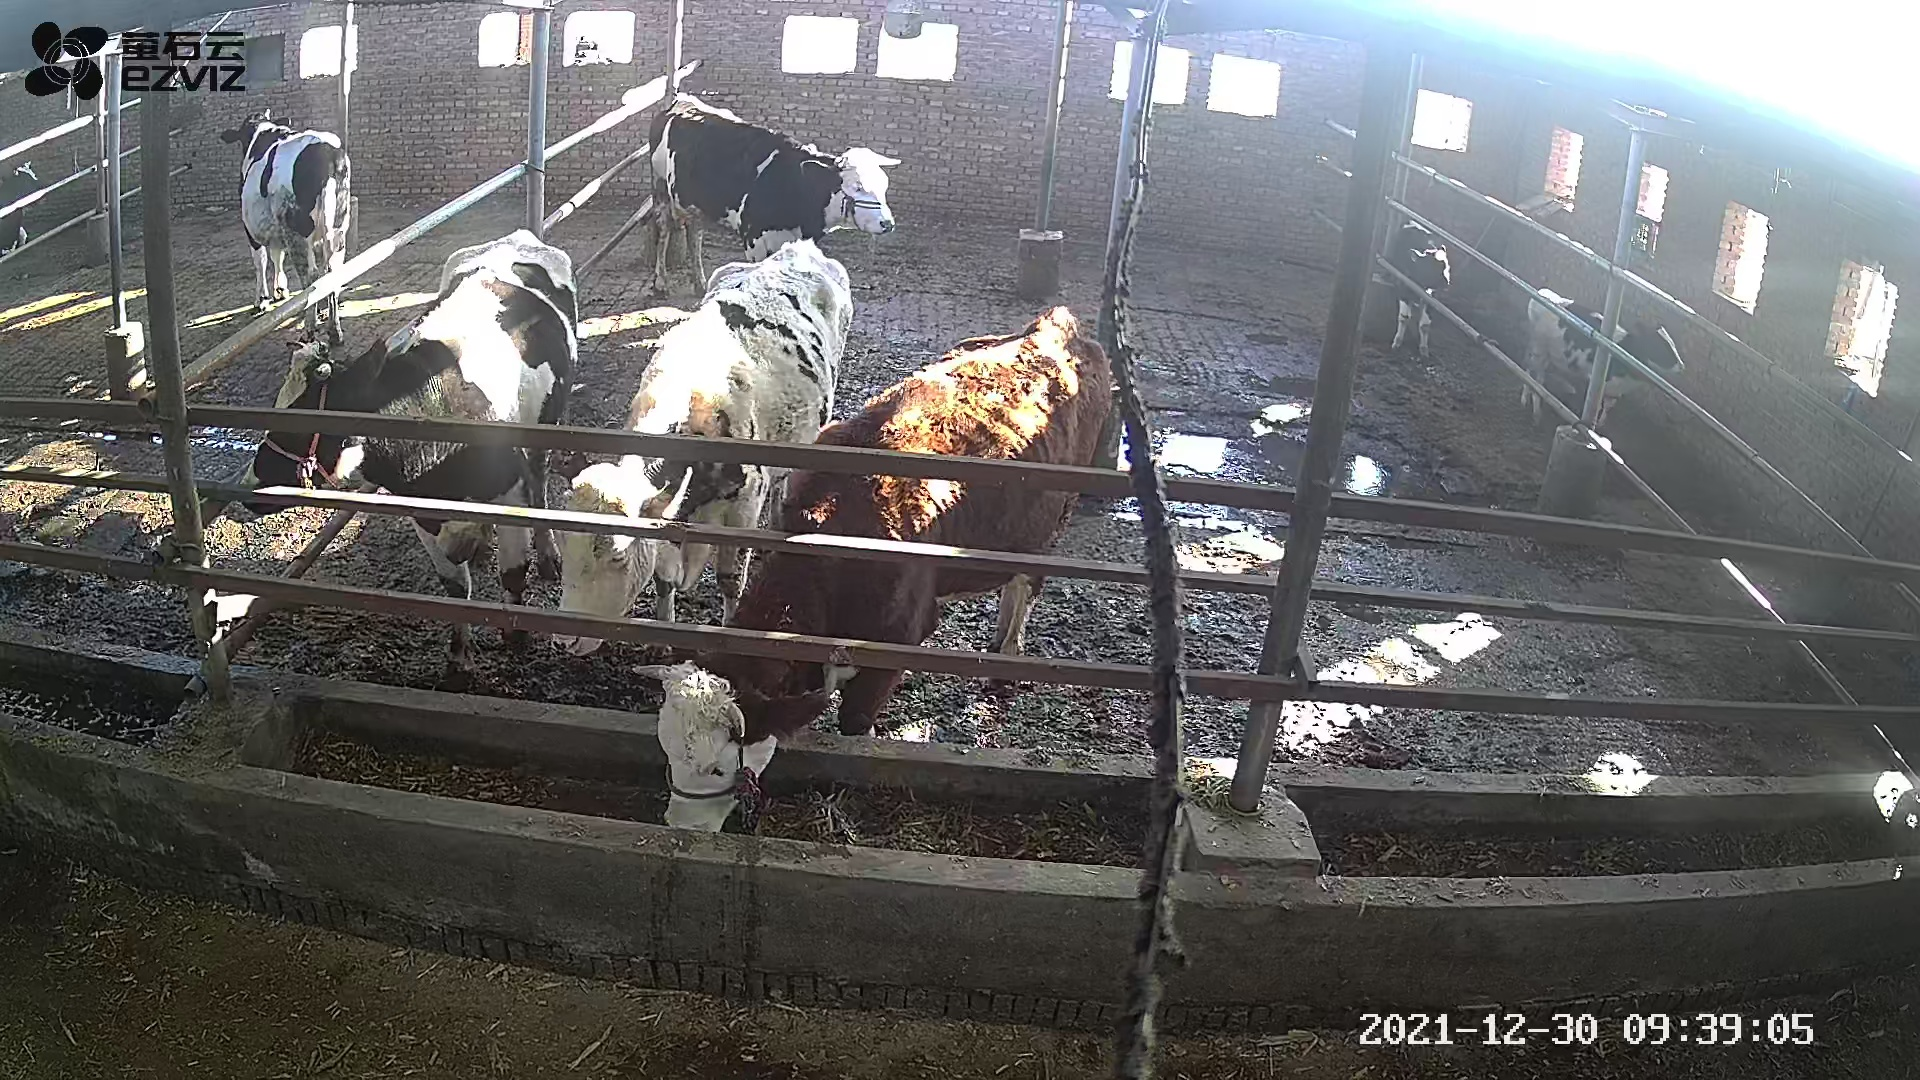cow: (633, 306, 1112, 833), (233, 225, 579, 690), (549, 236, 853, 659), (647, 88, 902, 301)
